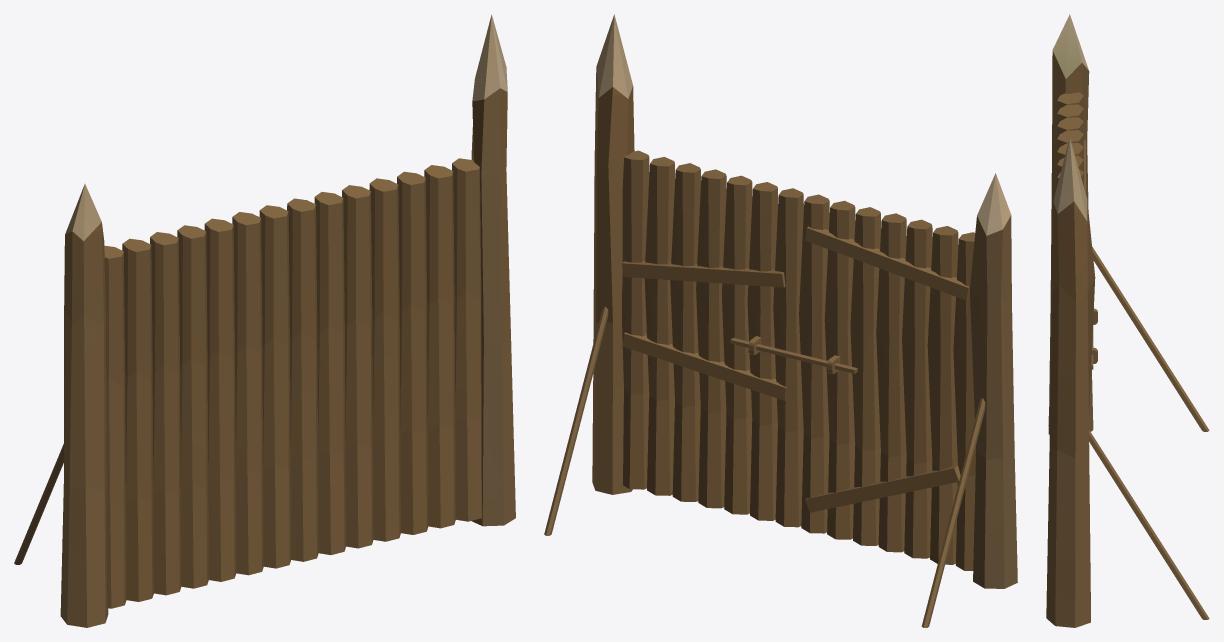
File: TribalGate.fbx
3 views of the same model, side by side, from view 1: azimuth 30°, elevation 25°; view 2: azimuth 150°, elevation 25°; view 3: azimuth 270°, elevation 25° (orthographic). The views are drawn at different scales.
Parts seen in each view (by area): view 1: TribalWallGate; view 2: TribalWallGate; view 3: TribalWallGate.
Boxes of the visible parts, box(x1,y1,x2,y2) form: TribalWallGate: box(14, 14, 515, 627); TribalWallGate: box(544, 14, 1017, 627); TribalWallGate: box(1046, 14, 1209, 627).
Bounding box in the file's own units: 4.55 × 1.5 × 4.9.
1 material, 1 textured.
